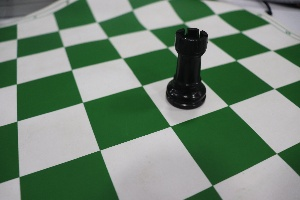black_rook: (160, 16, 217, 116)
